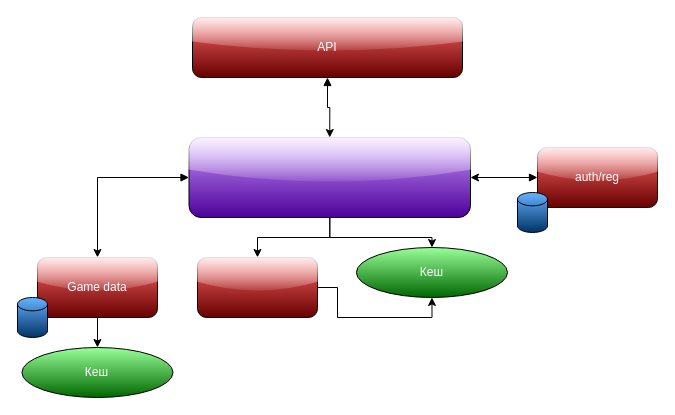
Some shapes in this 675 by 415 pixel diagram are drawn without their labels. The centre of each missing label's shape, as x and y in pixels:
Game Process: (x=257, y=287)
Оркестратор: (x=329, y=177)
